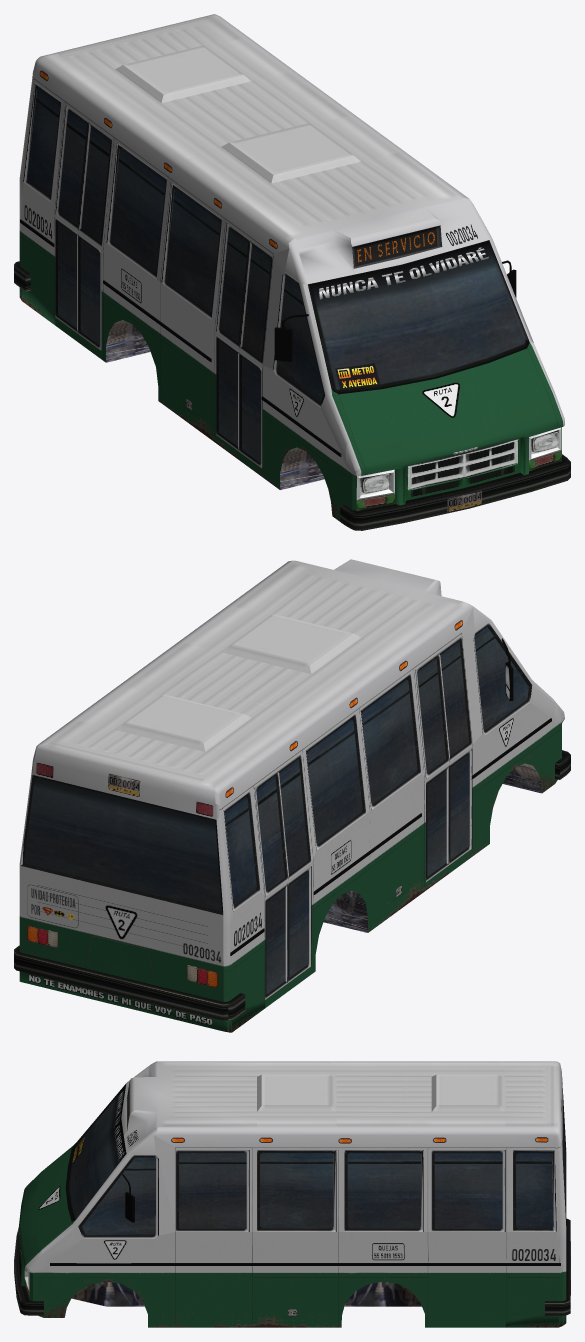
File: mx_microbus.fbx
The picture shows the model from 3 angles, top to bottom: view 1: azimuth 30°, elevation 25°; view 2: azimuth 150°, elevation 25°; view 3: azimuth 270°, elevation 25°; orthographic projection. The views are drawn at different scales.
Parts seen in each view (by area): view 1: Tube001; view 2: Tube001; view 3: Tube001.
Part boxes in pixels (x1,y1,x2,y2): Tube001: (14,14,570,530); Tube001: (14,559,570,1032); Tube001: (14,1061,570,1327).
Bounding box in the file's own units: 240 × 235 × 603.
